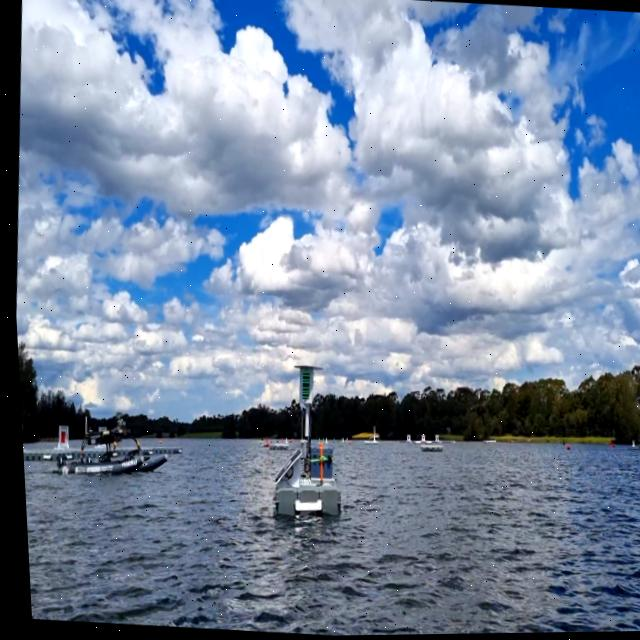led: (294, 368, 308, 404)
